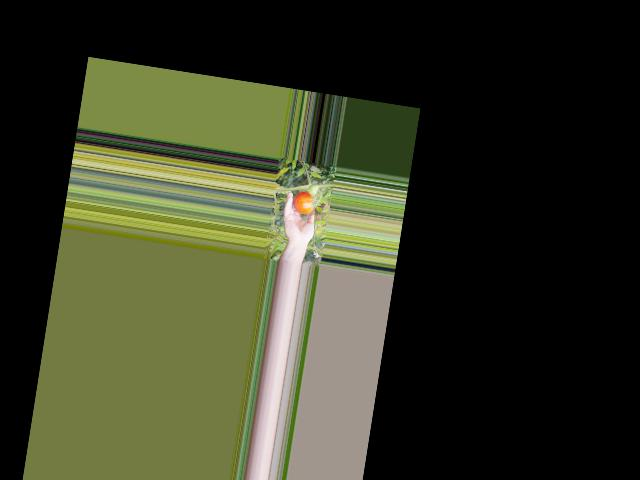tomato: (292, 189, 315, 216)
